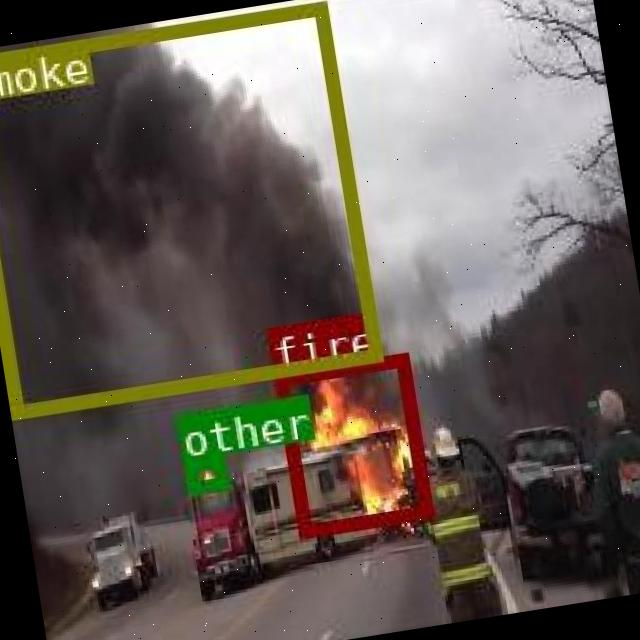fire: (274, 352, 429, 535)
smoke: (0, 0, 380, 414)
